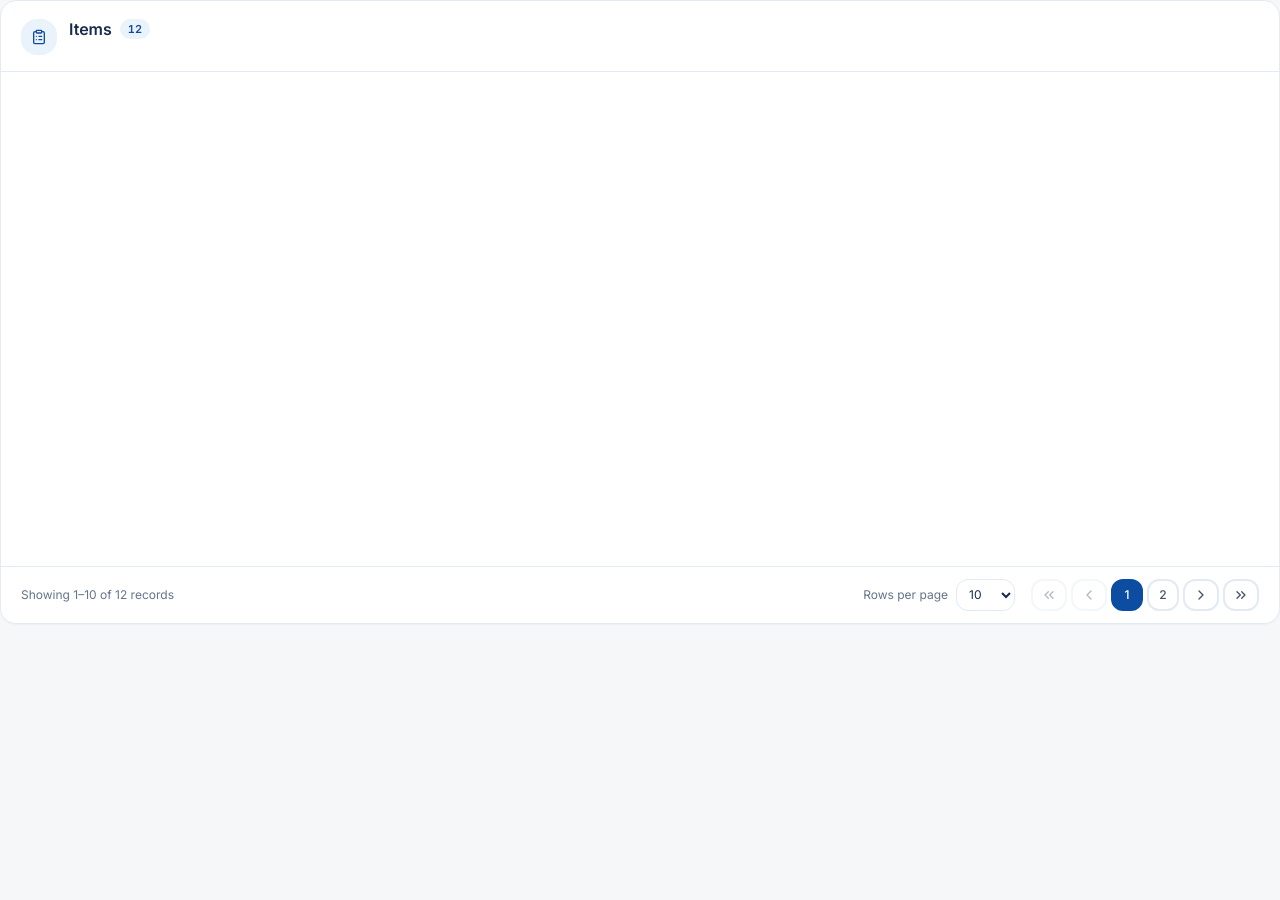
Test: DataTable › paginates client-side rows and reports the visible range
This screenshot has width=1280, height=900.
Expected: the text "Showing 1–10 of 12 records" is shown, [21,586,174,602]
Expected: the text "Item 11" is not shown
Click the button named "Next page" at (1201, 594), box [1183,578,1219,610]
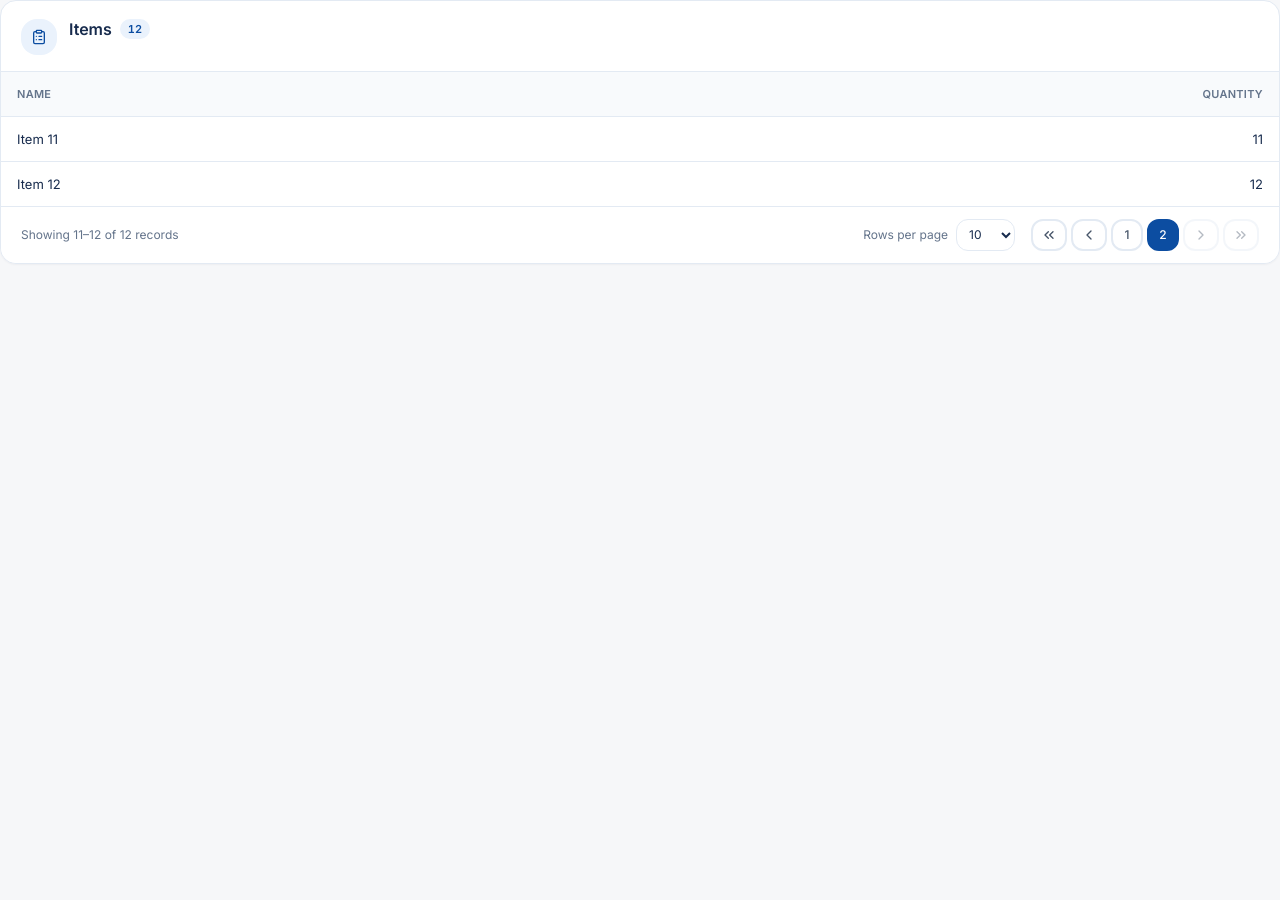
Expected: the text "Showing 11–12 of 12 records" is shown, [21,226,179,242]
Expected: the text "Item 11" is shown, [1,116,576,161]
